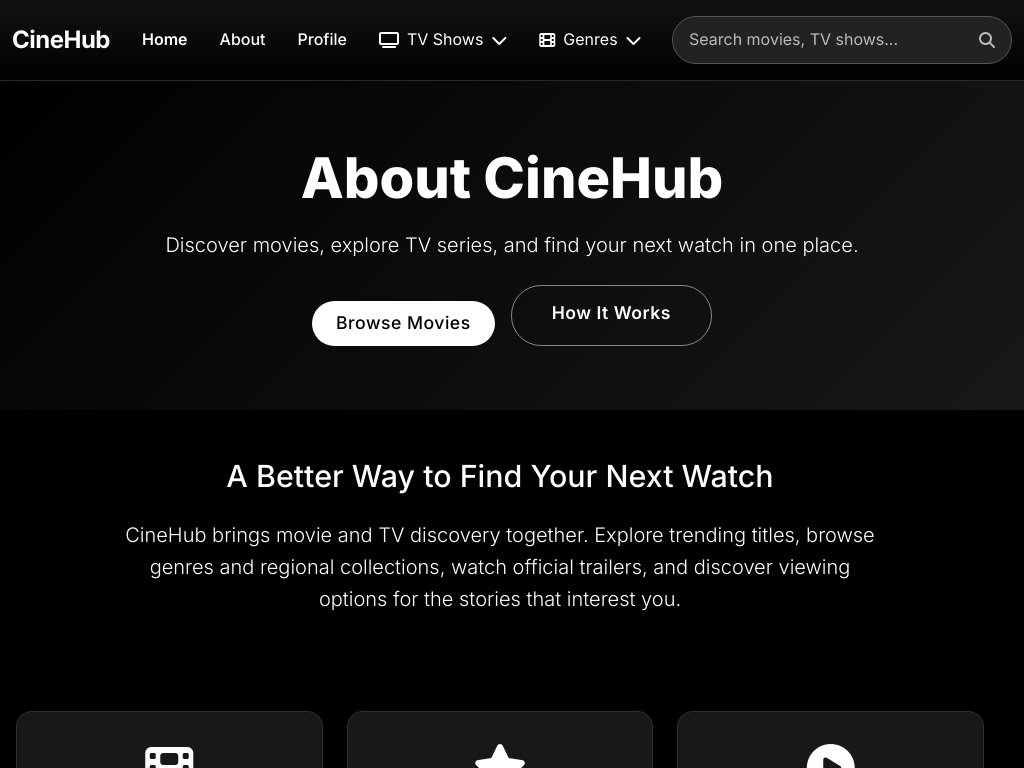
Test: search submit uses current input immediately before the debounce finishes
Click the link with aria-label "Search movies and TV shows" at (842, 40), box [672,16,1012,64]
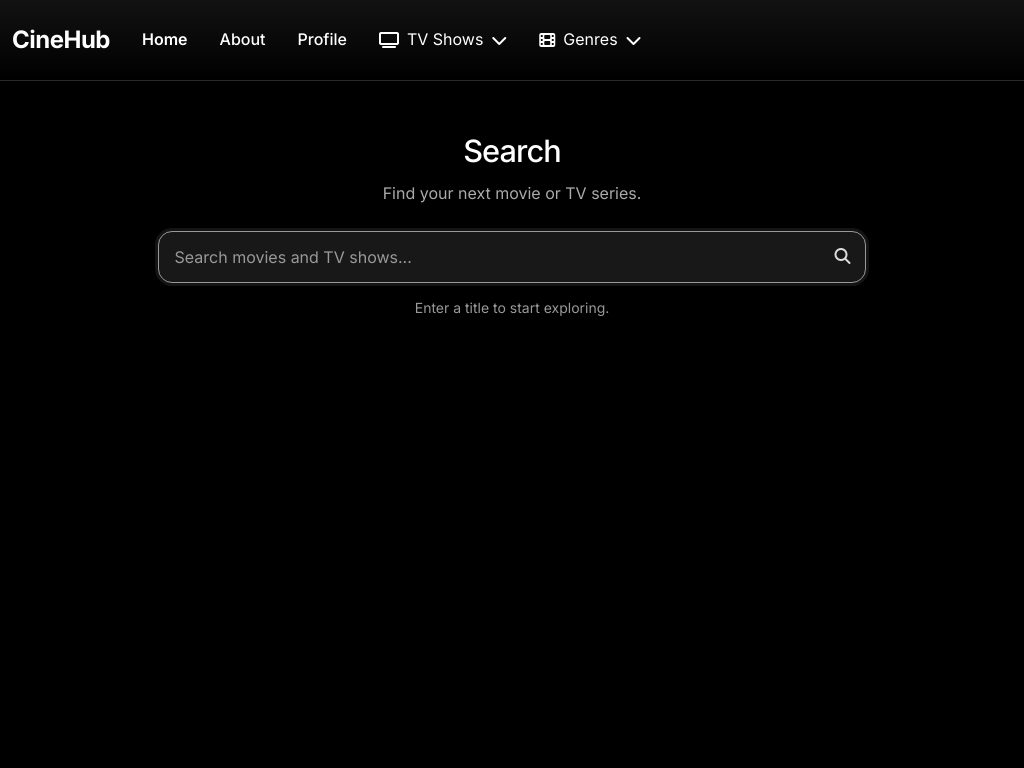
Type "fixture" into the search field labelled "Search" at (512, 257), box [158,231,866,283]
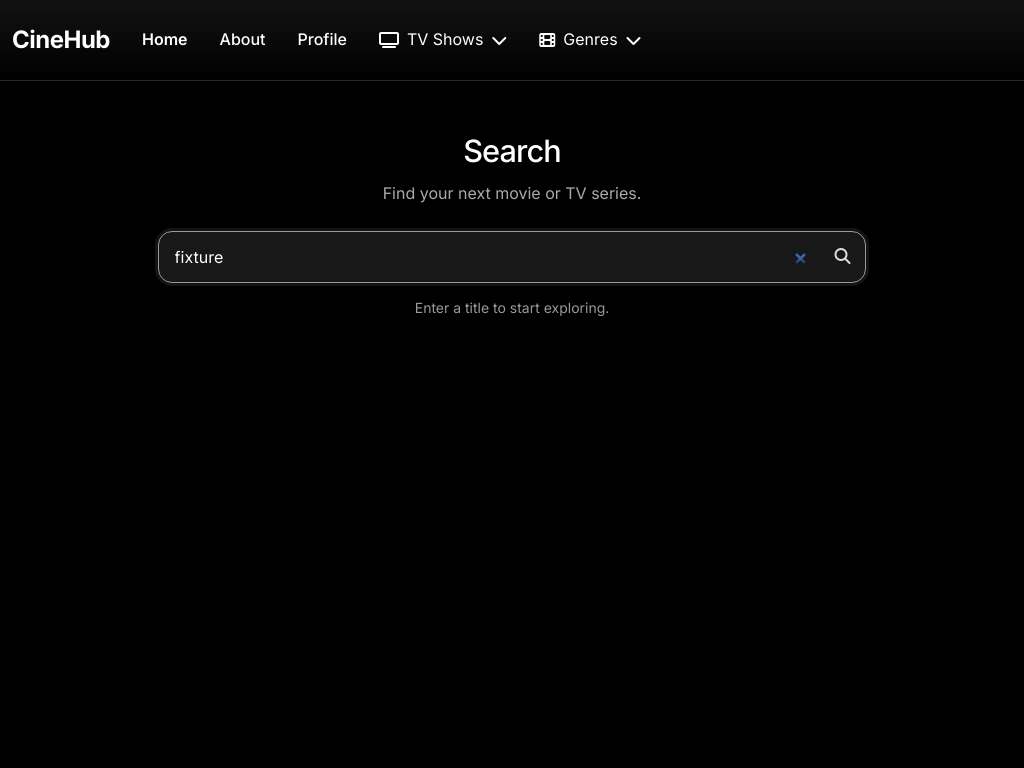
Click the button named "Search titles" at (842, 257), box [818,231,866,283]
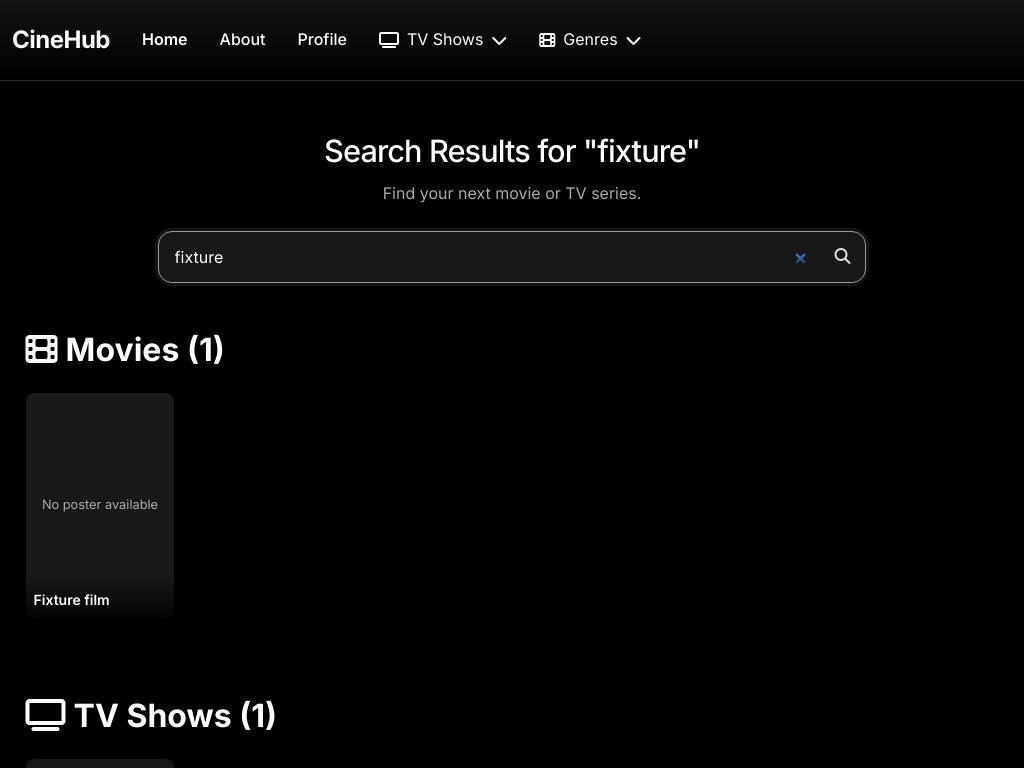
Check: the heading "Search Results for \"fixture\"" is shown, box [324,132,700,169]
